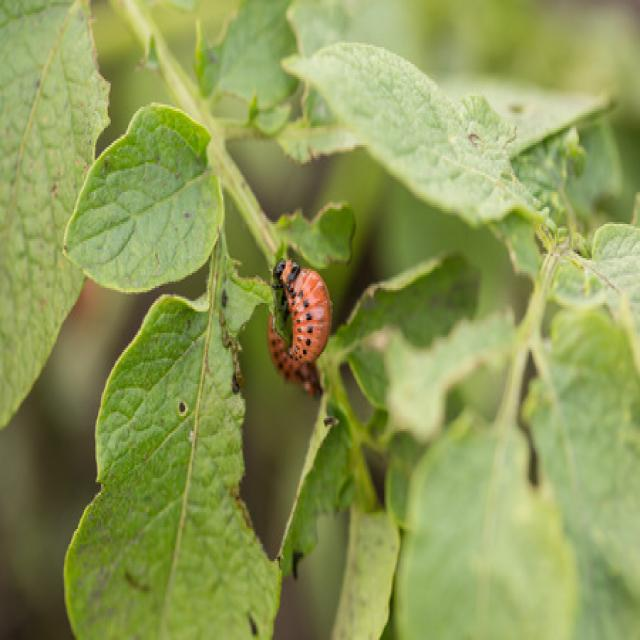ShuCaiHuaBanChong-Larva-: (267, 253, 339, 371)
